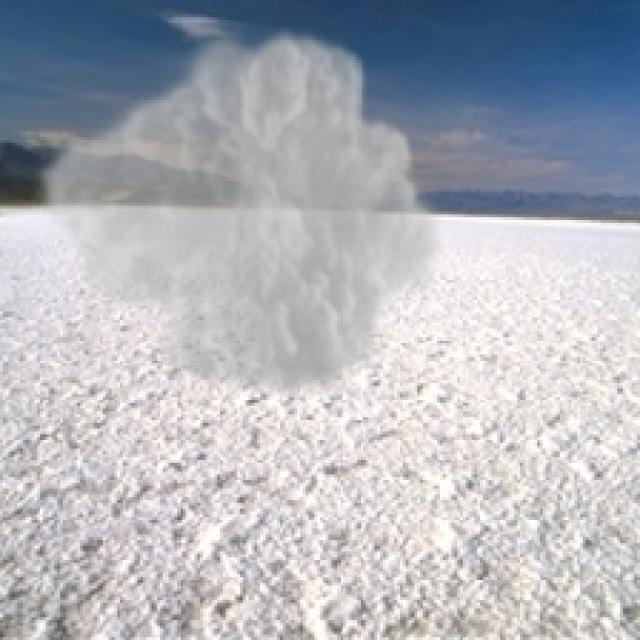Smoke: (31, 20, 446, 406)
